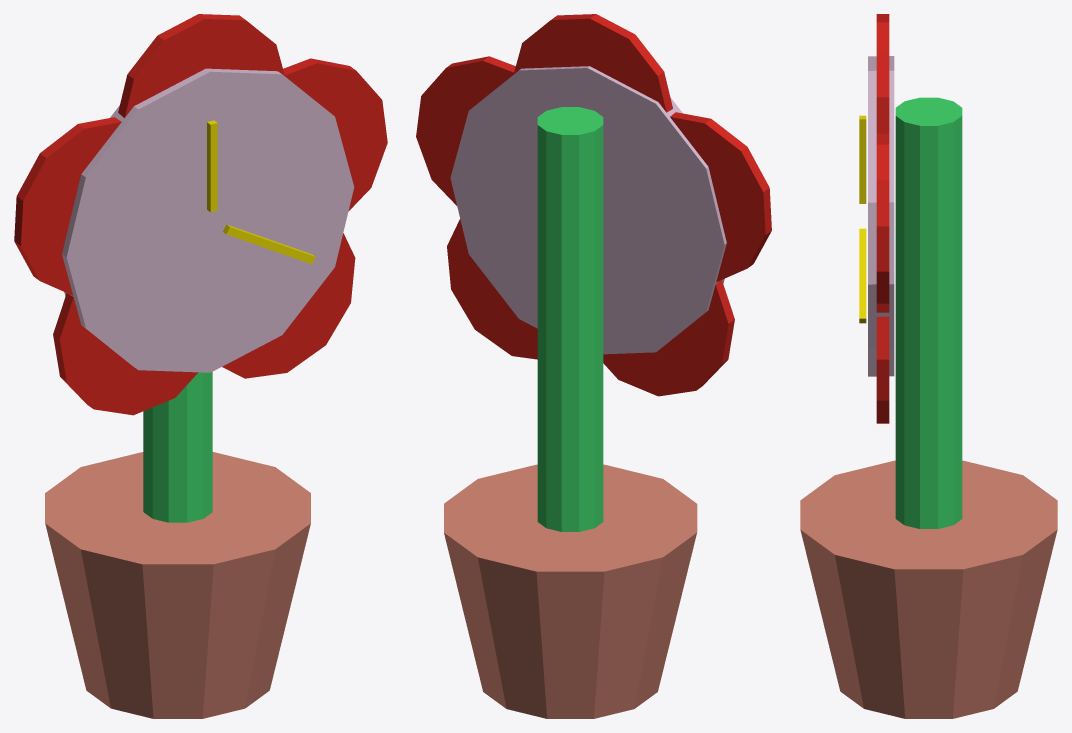
Rendered from flowerclock.fbx.
3 renders of one model, left to right at view 1: azimuth 30°, elevation 25°; view 2: azimuth 150°, elevation 25°; view 3: azimuth 270°, elevation 25°, orthographic. The views are drawn at different scales.
Visible parts, largest first — view 1: Circle, Cylinder, Cylinder.001, Circle.002, Circle.001, Circle.005, Circle.003, Circle.004, Cube; view 2: Cylinder, Circle, Cylinder.001, Circle.002, Circle.001, Circle.005, Circle.003, Circle.004; view 3: Cylinder, Cylinder.001, Circle, Circle.003, Circle.001, Circle.004, Cube.
Part boxes in pixels (box(x1,y1,x2,y2)): Circle: box(62, 68, 354, 372); Cylinder: box(45, 452, 310, 718); Cylinder.001: box(143, 372, 212, 522); Circle.002: box(14, 117, 121, 295); Circle.001: box(118, 14, 284, 117); Circle.005: box(53, 293, 197, 415); Circle.003: box(283, 58, 387, 211); Circle.004: box(222, 233, 355, 378); Cube: box(207, 120, 315, 264); Cylinder: box(444, 464, 697, 718); Circle: box(450, 66, 726, 354); Cylinder.001: box(537, 107, 603, 531); Circle.002: box(670, 112, 771, 281); Circle.001: box(513, 14, 672, 112); Circle.005: box(603, 280, 734, 396); Circle.003: box(416, 56, 515, 205); Circle.004: box(447, 219, 537, 359); Cylinder: box(800, 460, 1057, 718); Cylinder.001: box(895, 97, 962, 528); Circle: box(868, 56, 894, 376); Circle.003: box(876, 133, 889, 312); Circle.001: box(876, 14, 889, 133); Circle.004: box(876, 316, 889, 423); Cube: box(859, 115, 866, 323).
Size of the model in its own units: 446 by 792 by 280.
